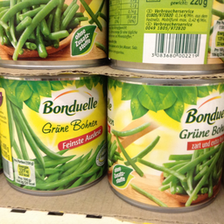beans: (104, 74, 223, 213), (1, 76, 106, 196), (110, 1, 223, 75), (1, 1, 107, 66)
